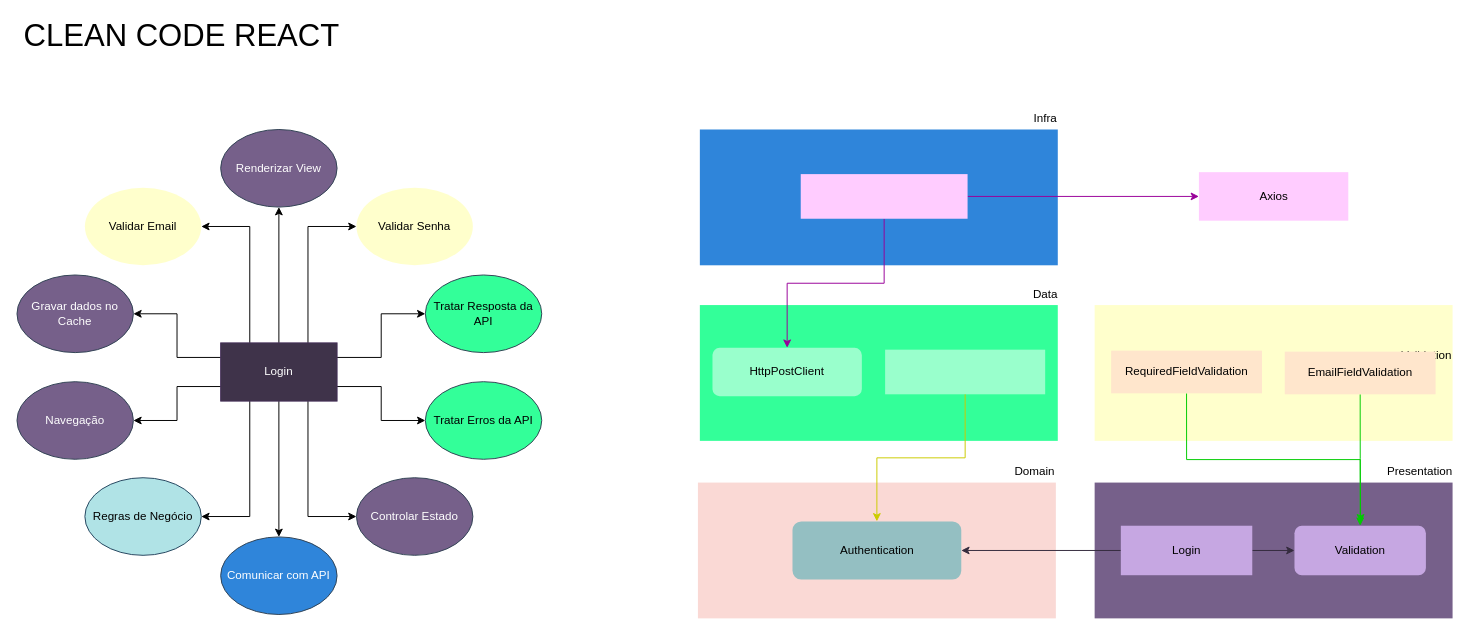
Image size: 1482x634. Some labels were removed from this diagram. Each missing label, with the centre of its shape:
"AxiosHttpClient" belongs at point 883,196.
"Remote Authentication" belongs at point 965,371.
